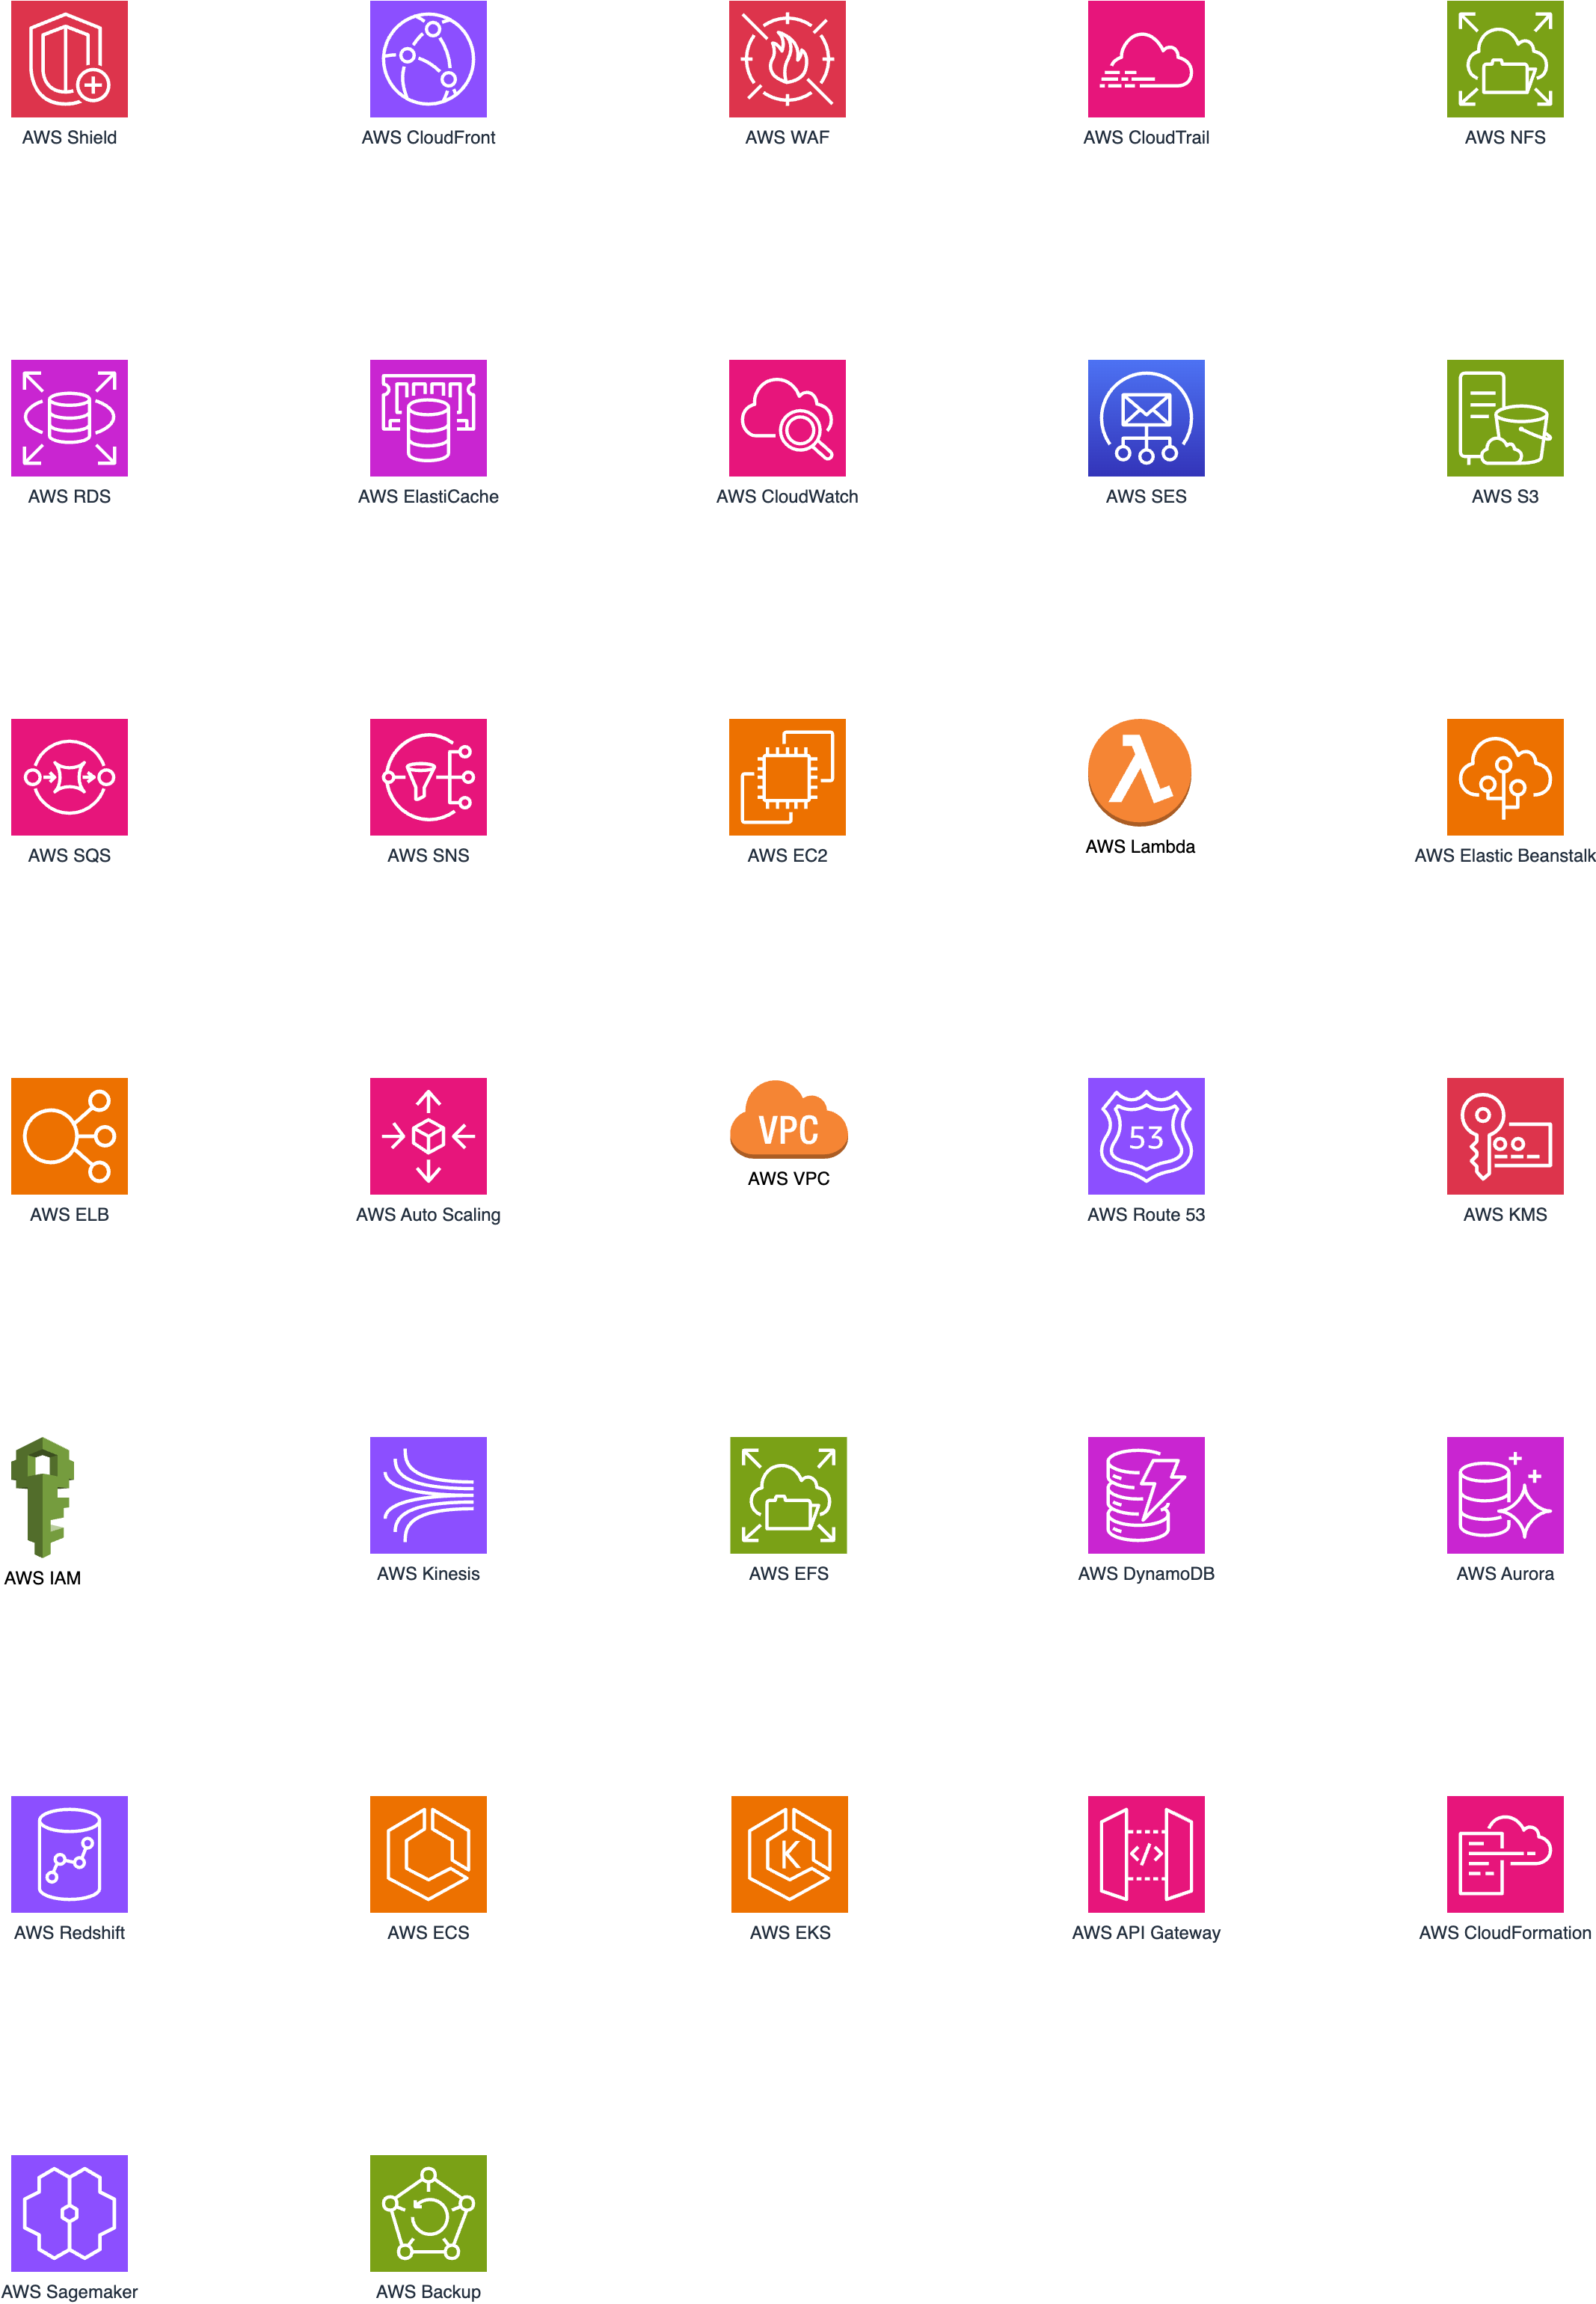AWS API Gateway: (1081, 1793, 1214, 1921)
AWS Aurora: (1442, 1430, 1570, 1556)
AWS Auto Scaling: (367, 1071, 492, 1198)
AWS Backup: (366, 2143, 493, 2278)
AWS CloudFormation: (1440, 1784, 1573, 1914)
AWS CloudWatch: (728, 355, 847, 481)
AWS DynamoDB: (1080, 1430, 1214, 1565)
AWS EC2: (726, 713, 850, 840)
AWS ECS: (364, 1788, 493, 1922)
AWS EFS: (723, 1430, 856, 1556)
AWS EKS: (726, 1789, 857, 1921)
AWS ELB: (7, 1071, 136, 1192)
AWS ElastiCache: (362, 355, 495, 483)
AWS Elastic Beanstalk: (1442, 709, 1570, 835)
AWS IAM: (0, 1434, 94, 1562)
AWS KMS: (1440, 1073, 1568, 1198)
AWS Kinesis: (364, 1429, 493, 1558)
AWS Lambda: (1083, 707, 1200, 835)
AWS NFS: (1445, 2, 1566, 119)
AWS RDS: (10, 348, 135, 481)
AWS Redshift: (7, 1789, 135, 1921)
AWS Route 53: (1085, 1071, 1204, 1194)
AWS S3: (1445, 354, 1568, 481)
AWS SES: (1087, 354, 1218, 485)
AWS SNS: (366, 718, 495, 840)
AWS SQS: (12, 718, 136, 839)
AWS Sagemaker: (2, 2145, 138, 2272)
AWS VPC: (730, 1073, 850, 1163)
AWS WAF: (730, 0, 849, 124)
